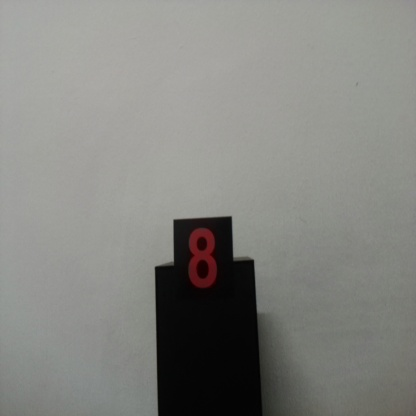id_8: (173, 220, 234, 307)
